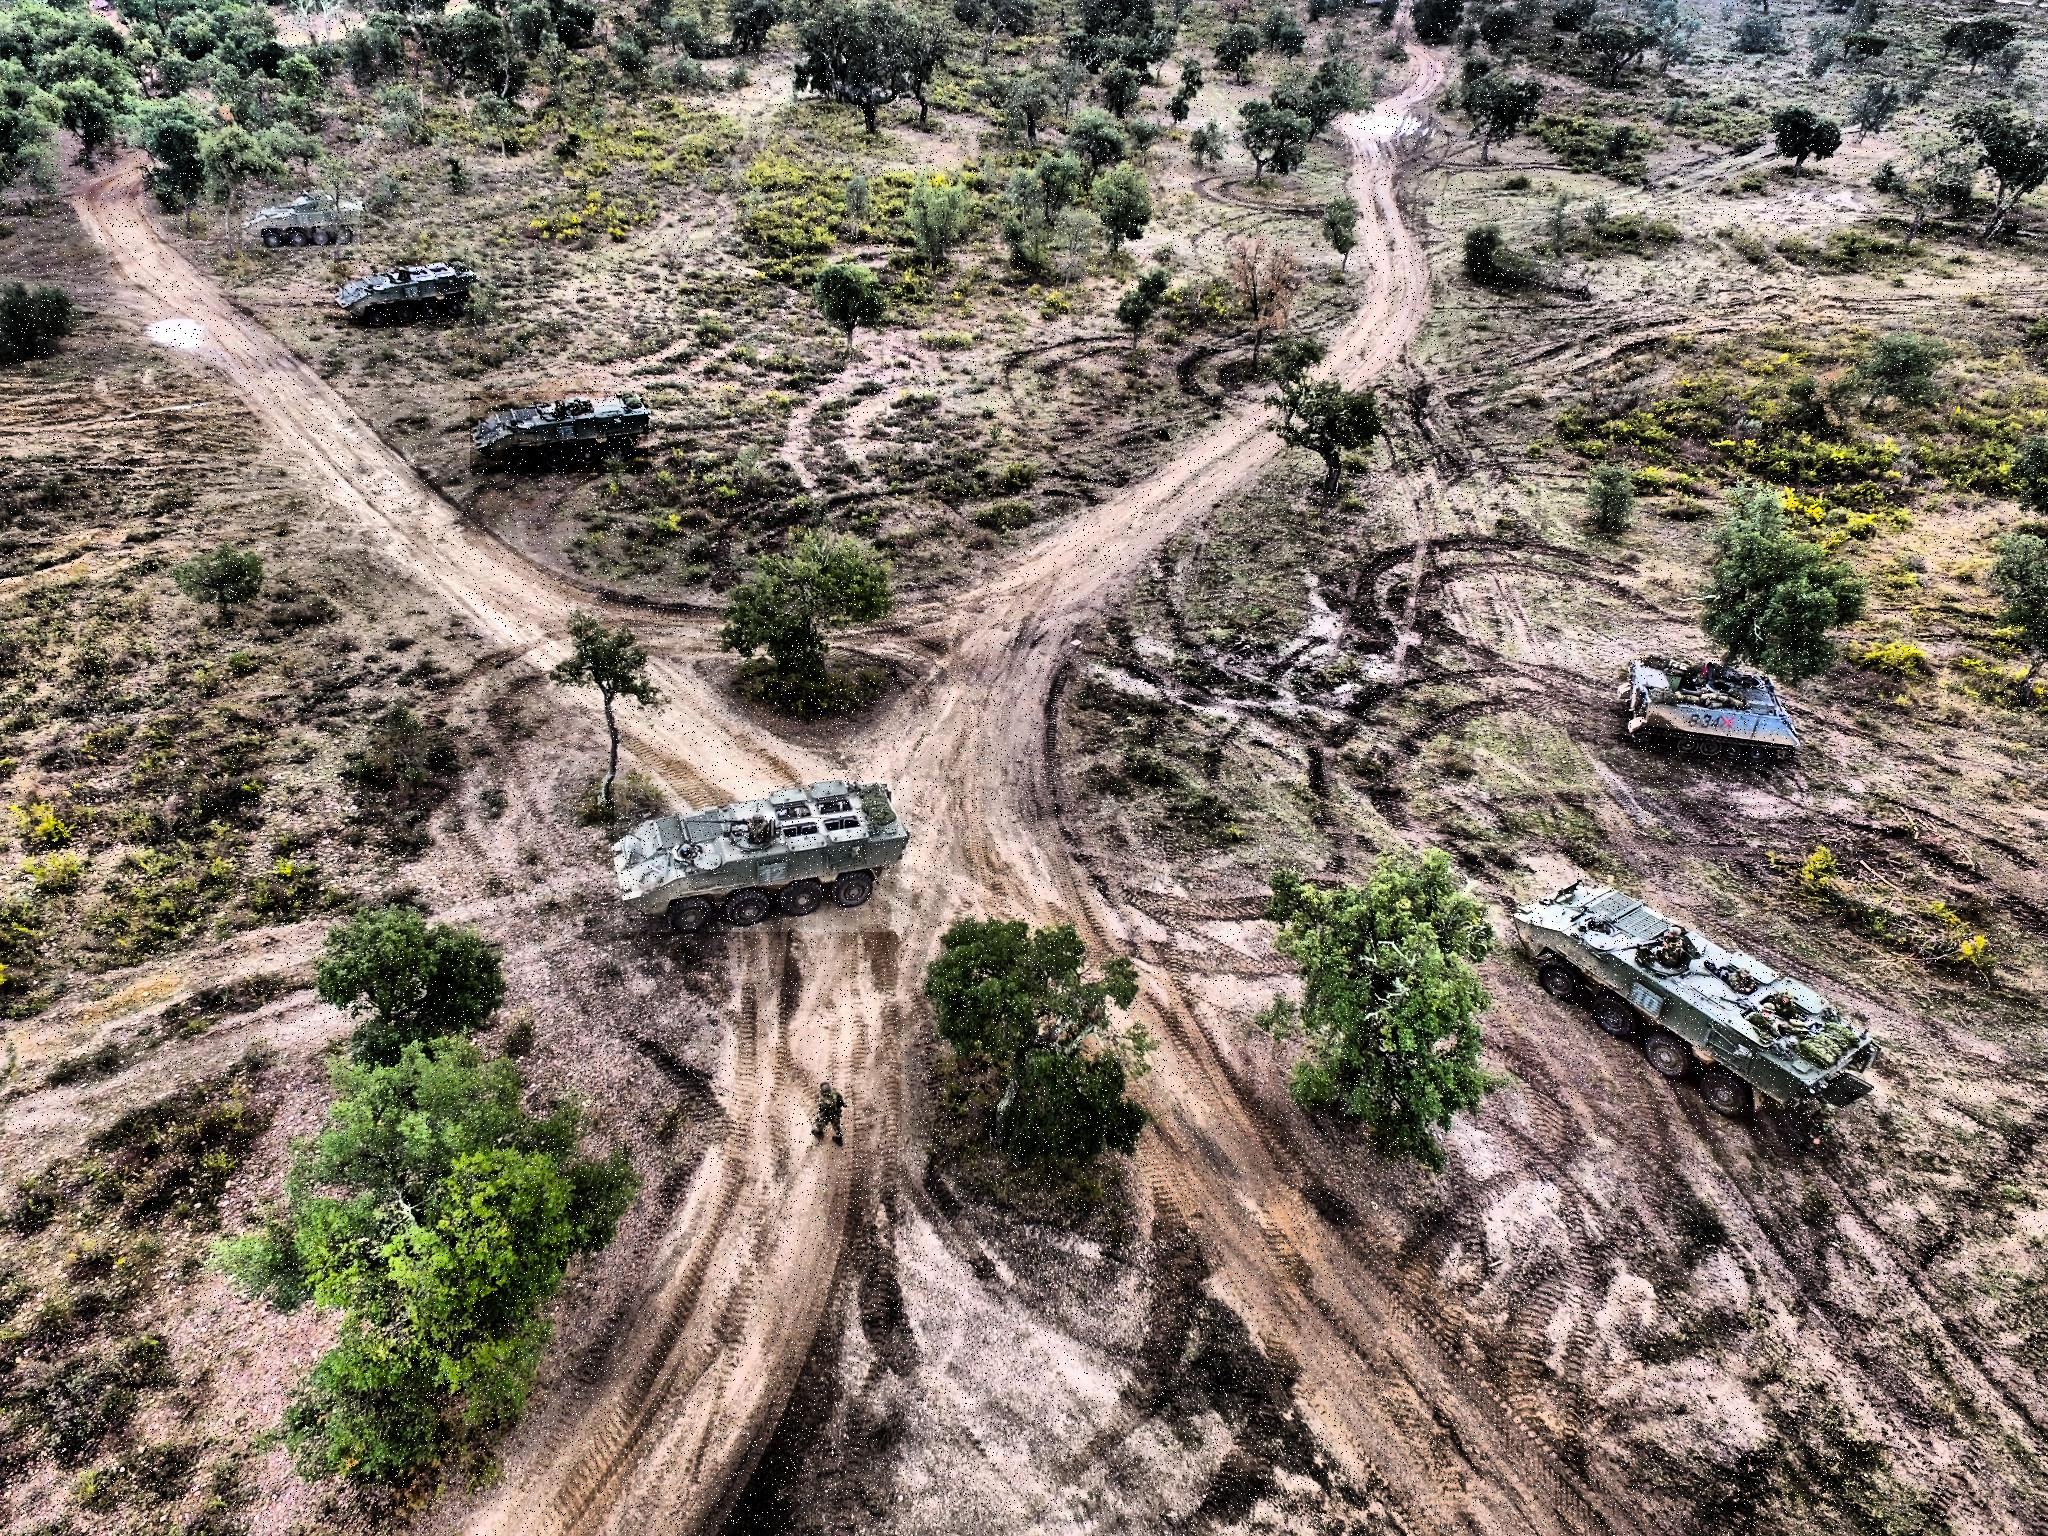military-vehicle: (1518, 882, 1874, 1116), (614, 780, 912, 932), (1618, 656, 1800, 764), (470, 391, 648, 473), (334, 258, 474, 328), (242, 190, 360, 250)
